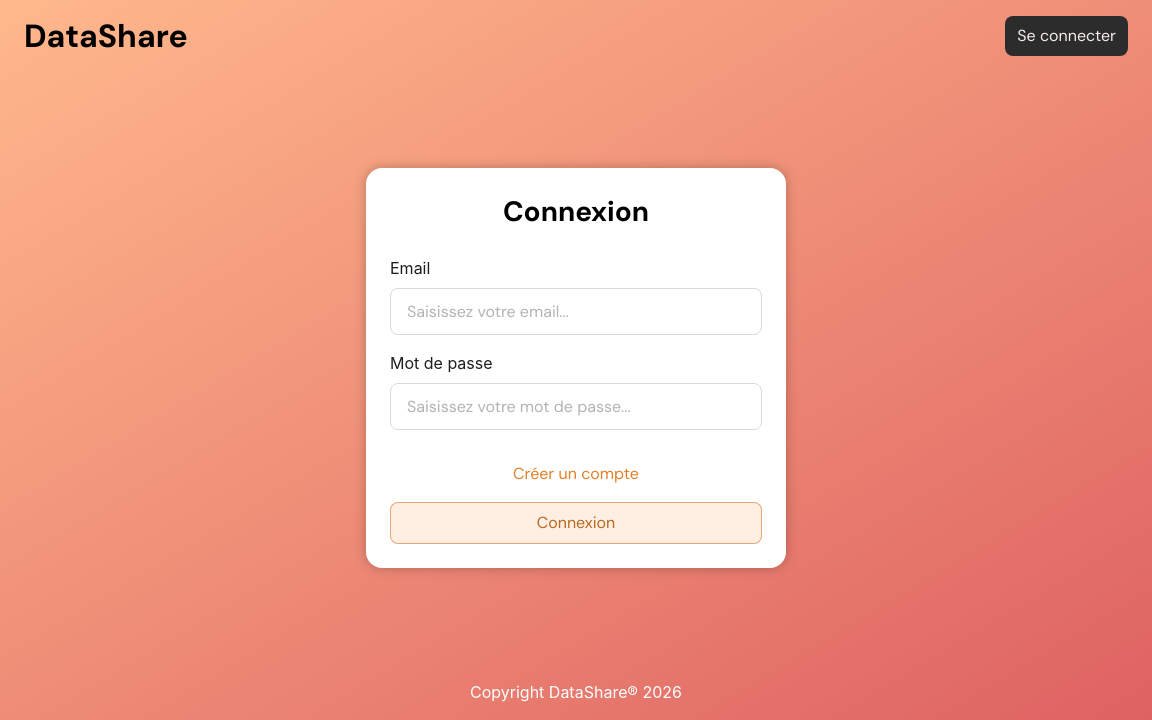
Test: LoginView › affiche une erreur et n'appelle pas login si l'email est invalide
Type "pas-un-email" into the field with id "login-email" at (576, 312), box 390,288 -> 762,335
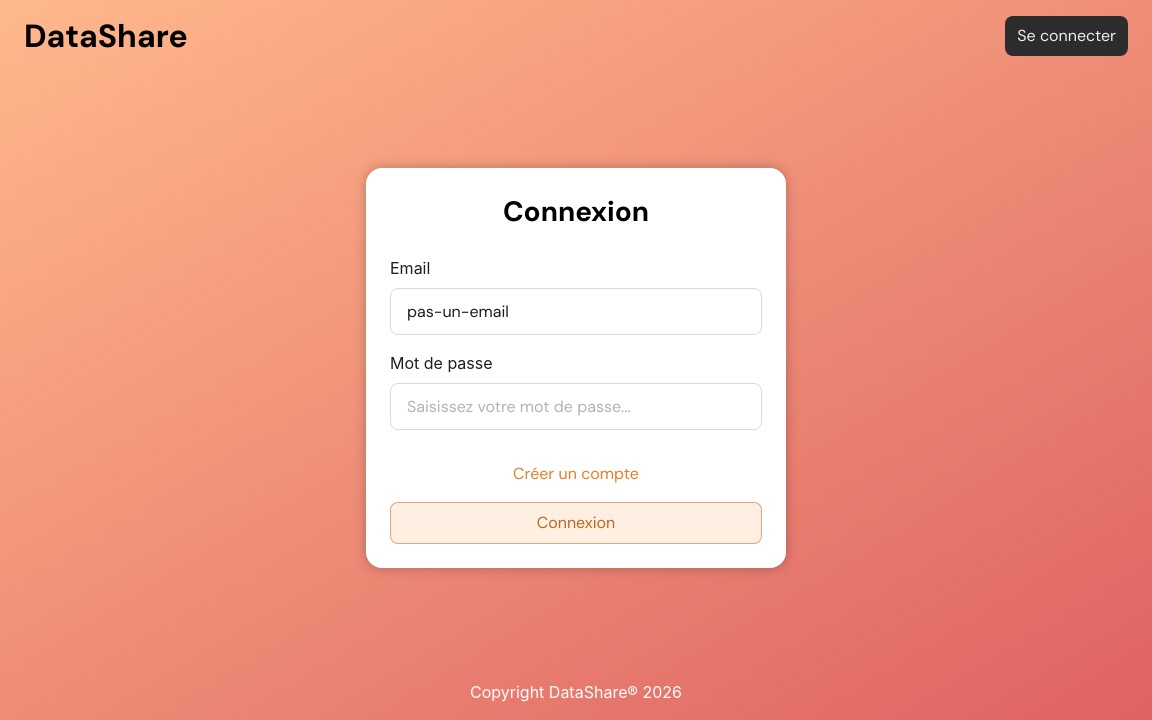
Type "motdepasse123" into the password field with id "login-password" at (576, 406), box 390,383 -> 762,430
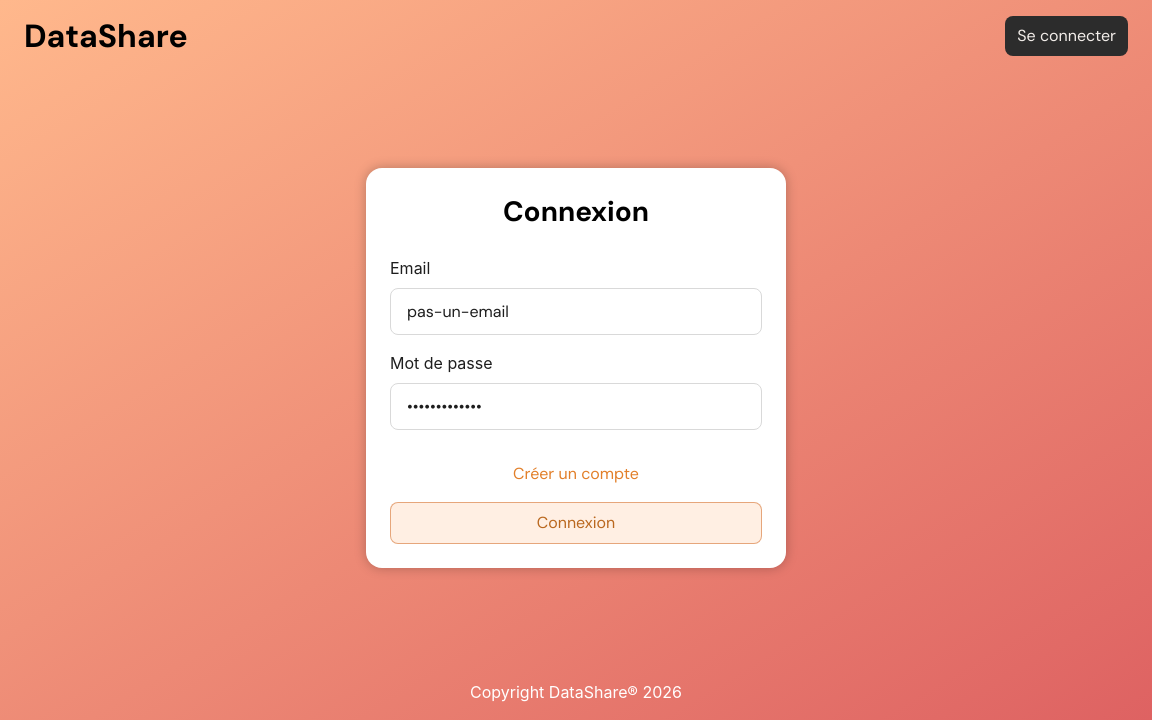
Submit the form, box 390,256 -> 762,544
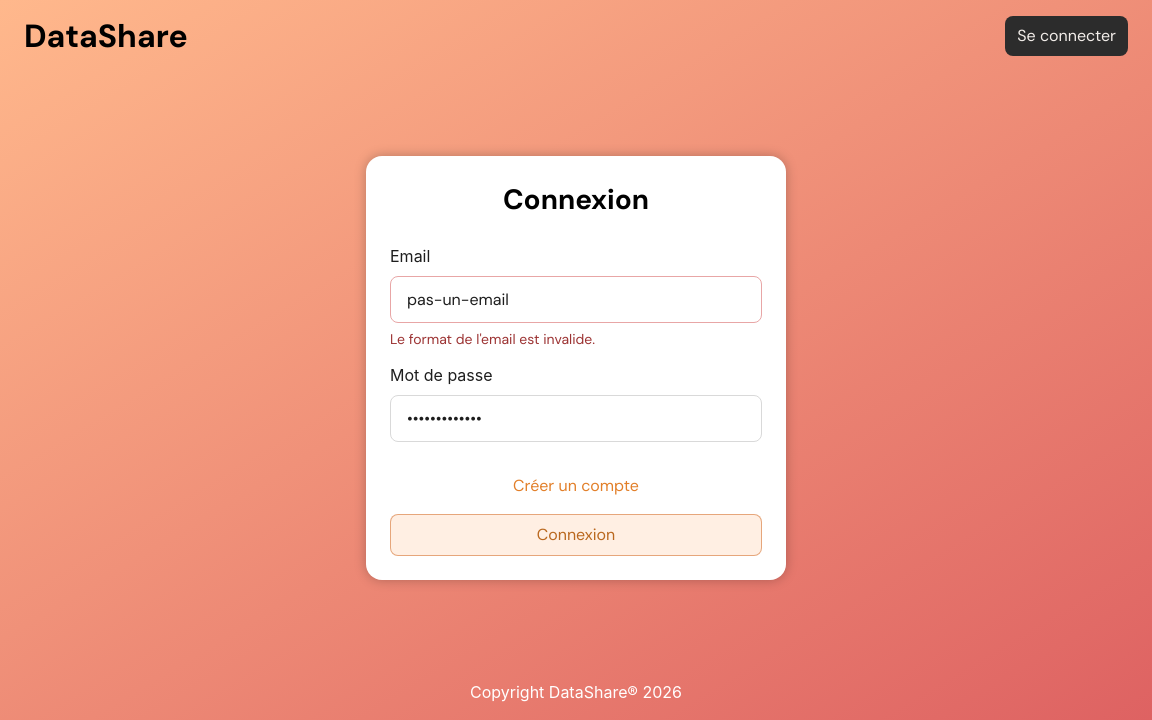
Check: the text with id "login-email-error" reads "Le format de l'email est invalide.", box 390,330 -> 595,348
